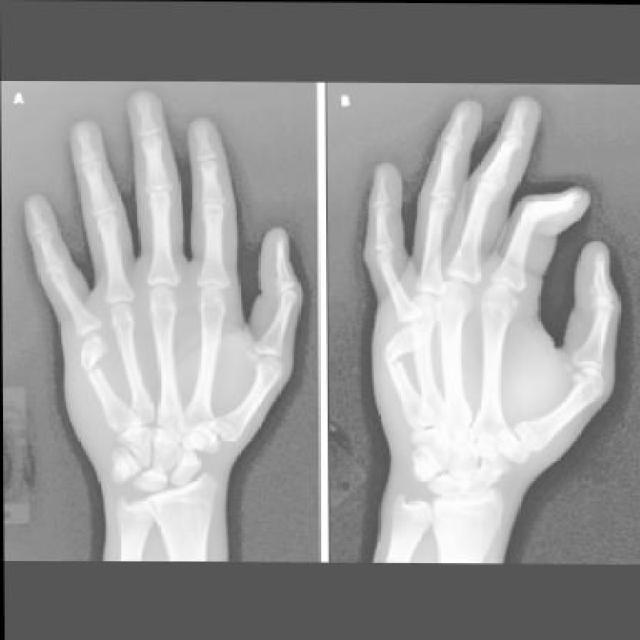Fracture: (380, 336, 410, 376), (76, 352, 107, 379)
